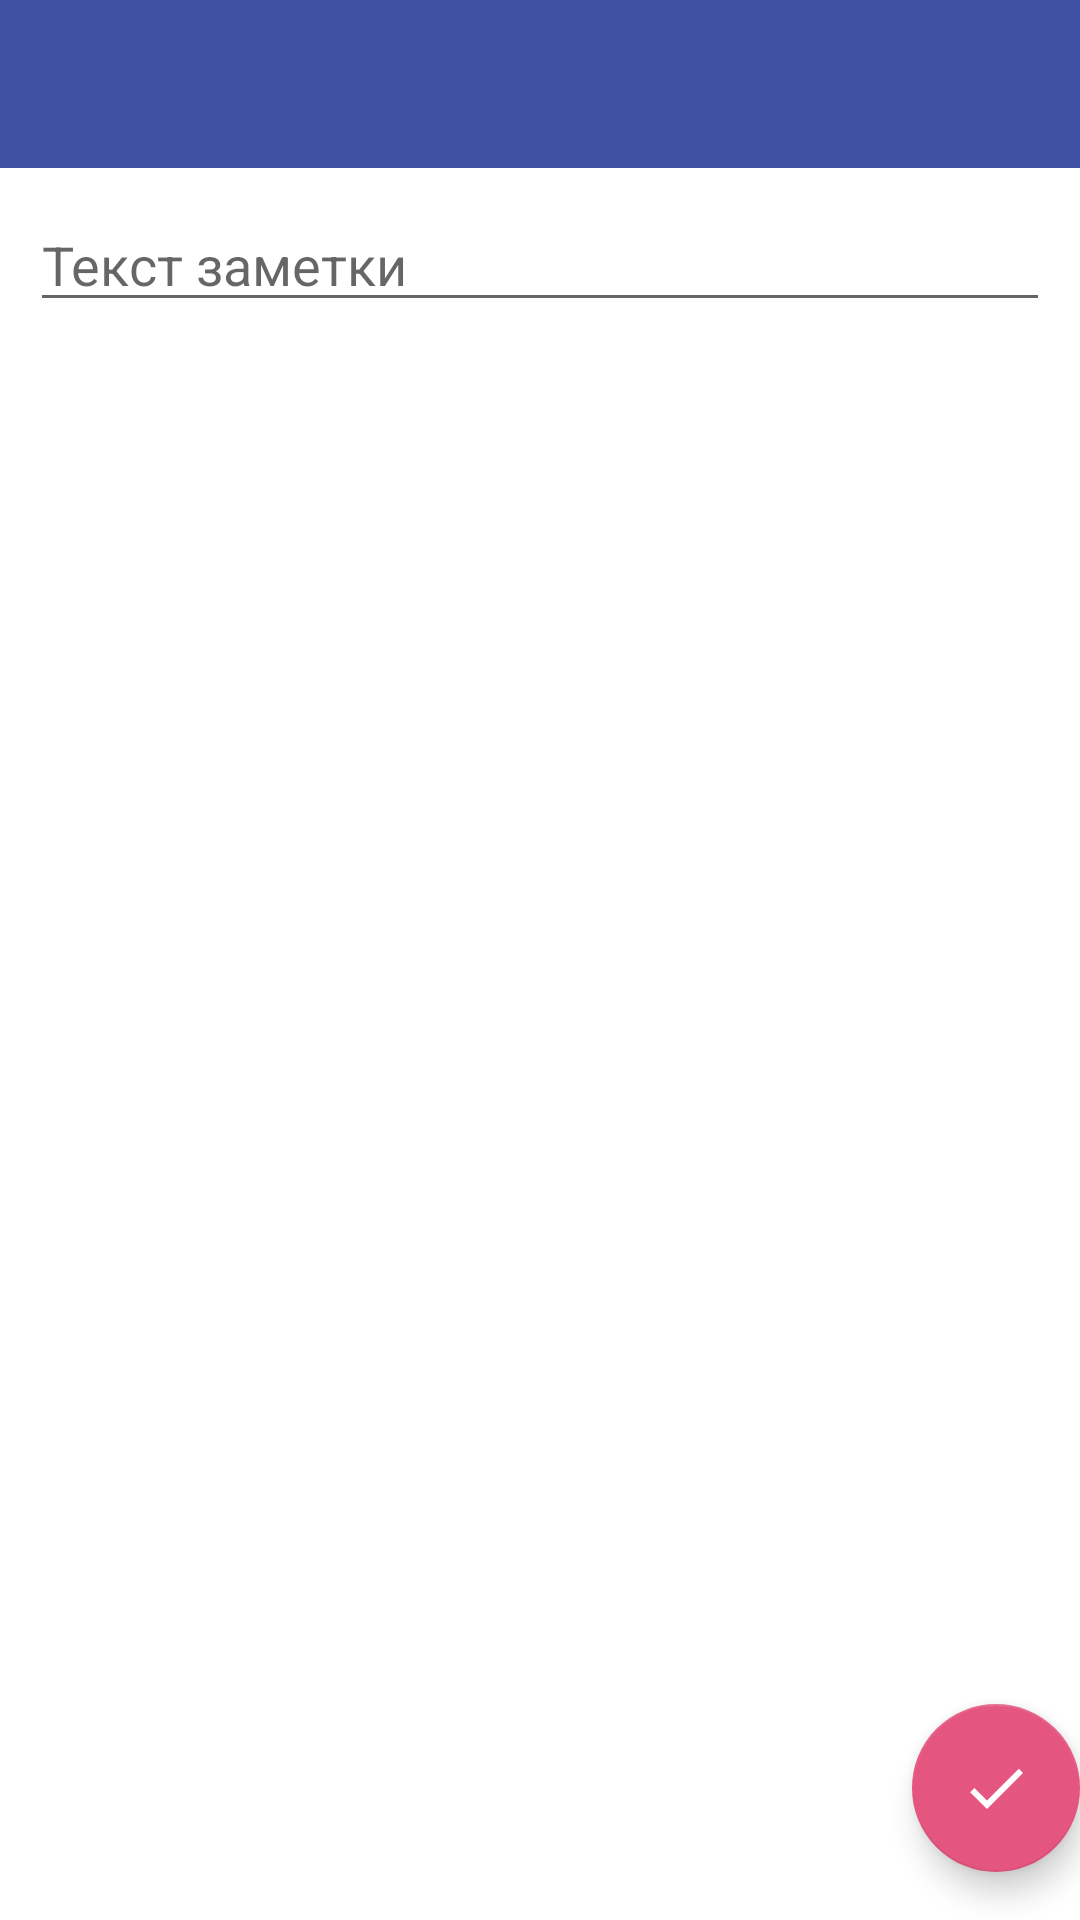

Point at icon controls on the screen. Image size 1080*1920, points as (x,y).
Save changes: (996,1788)
